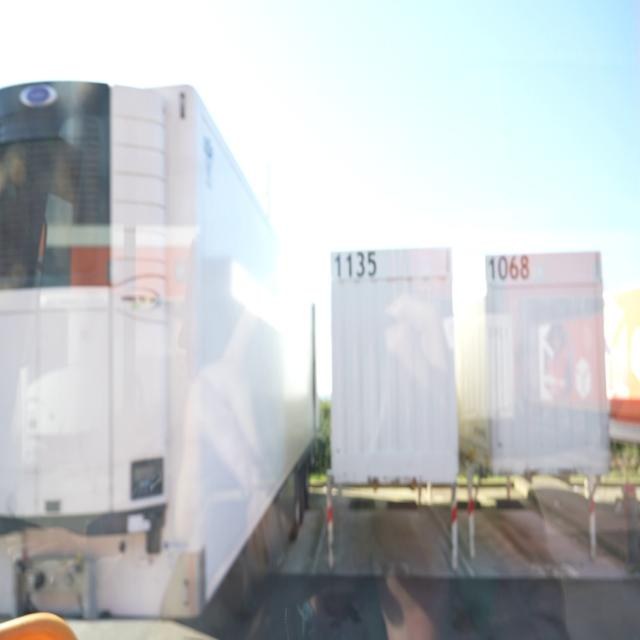Code: (332, 247, 382, 286), (487, 249, 537, 288)
